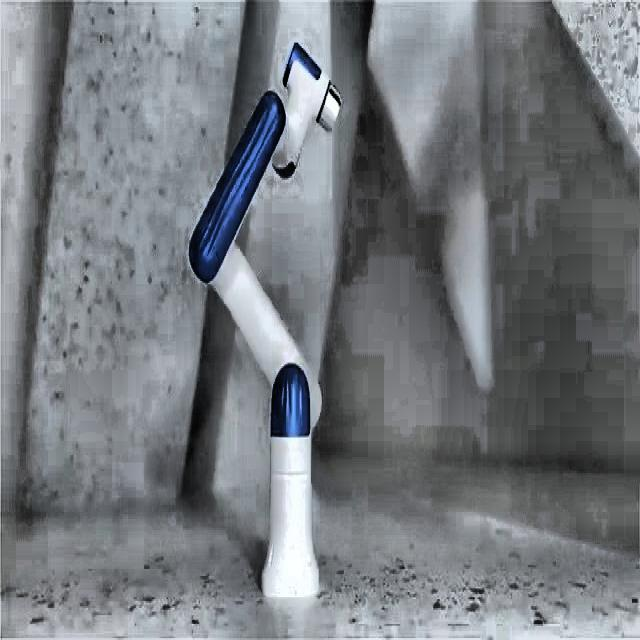robot: (186, 39, 343, 599)
